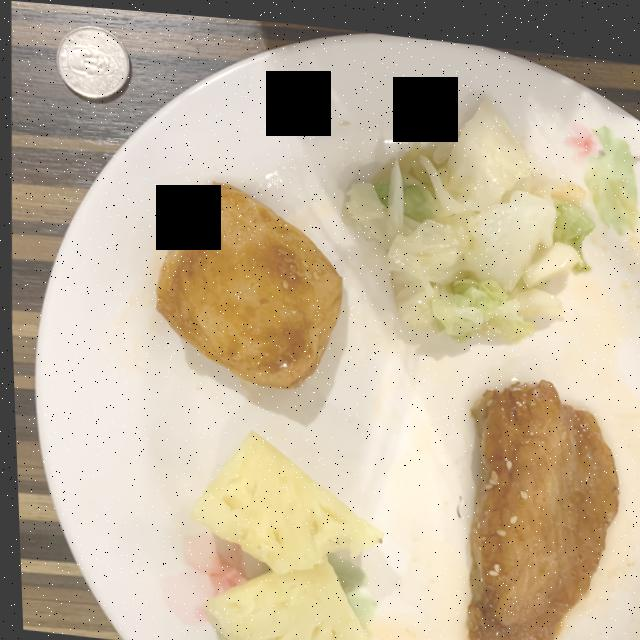Kabayaki sea bream fillet: (463, 370, 615, 640)
cabbage: (340, 91, 592, 333)
coin: (56, 23, 128, 96)
creamy tofu: (153, 178, 340, 383)
pineapple: (186, 427, 379, 640)
